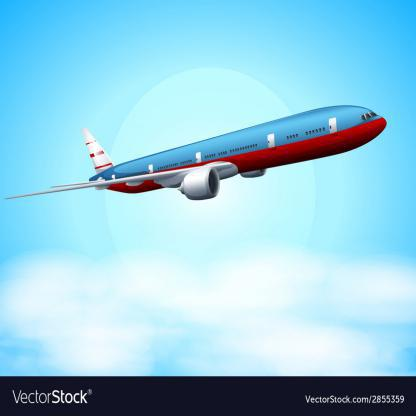CIV_Plane: (3, 102, 388, 224)
